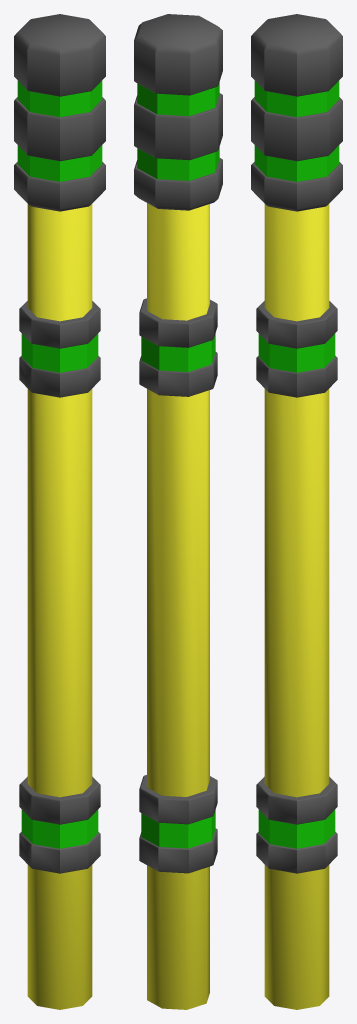
Rendered from obj_interactive_ziplinePole.fbx.
3 views of the same model, side by side, from view 1: azimuth 90°, elevation 25°; view 2: azimuth 150°, elevation 25°; view 3: azimuth 270°, elevation 25° (orthographic).
Visible parts, largest first — view 1: Cylinder.001; view 2: Cylinder.001; view 3: Cylinder.001.
Boxes of the visible parts, left/top/right/bottom form: Cylinder.001: left=14, top=14, right=105, bottom=1009; Cylinder.001: left=134, top=14, right=222, bottom=1009; Cylinder.001: left=251, top=14, right=342, bottom=1009.
Size of the model in its own units: 70.92 by 821 by 70.92.
